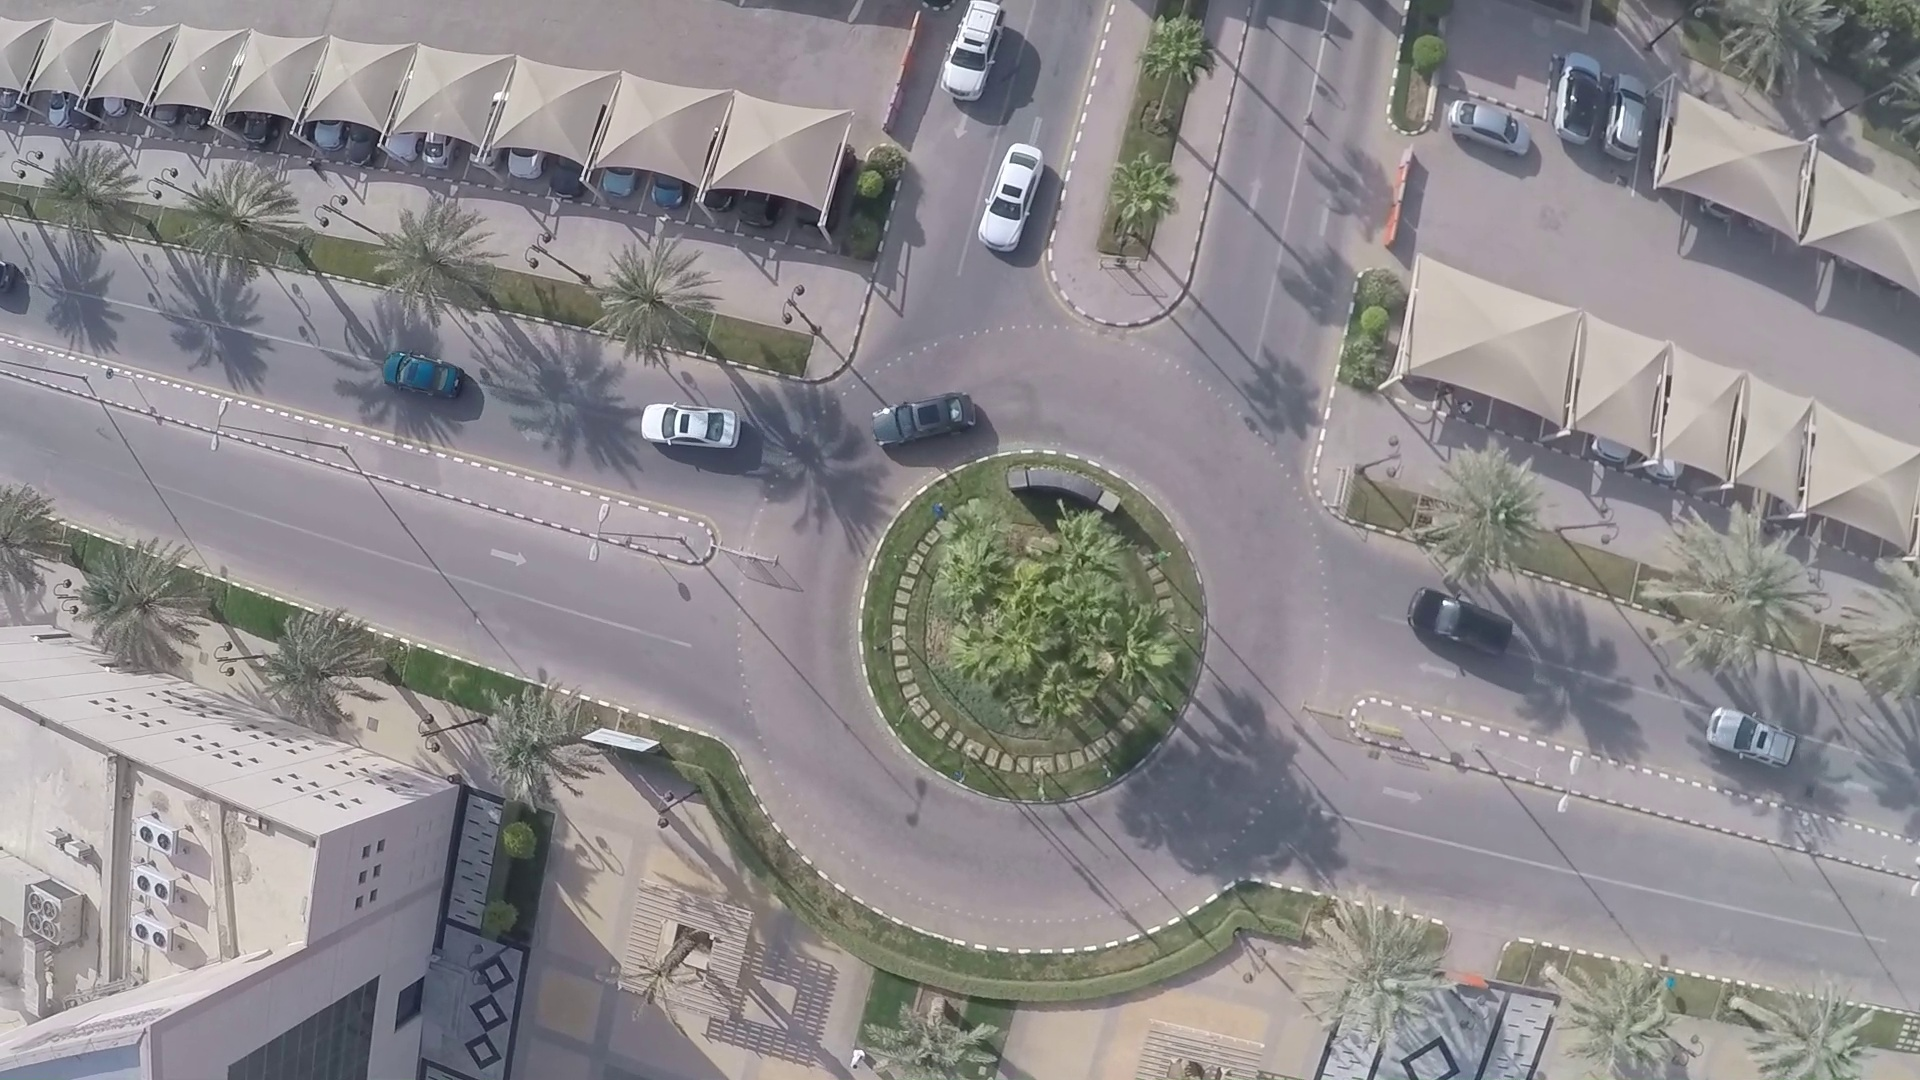car: (1396, 576, 1540, 671), (916, 1, 1013, 117), (851, 376, 1004, 447), (975, 141, 1044, 277), (622, 382, 750, 452), (1708, 695, 1809, 779), (1436, 84, 1528, 164), (1604, 61, 1659, 186), (369, 342, 475, 398), (1549, 46, 1600, 160)
